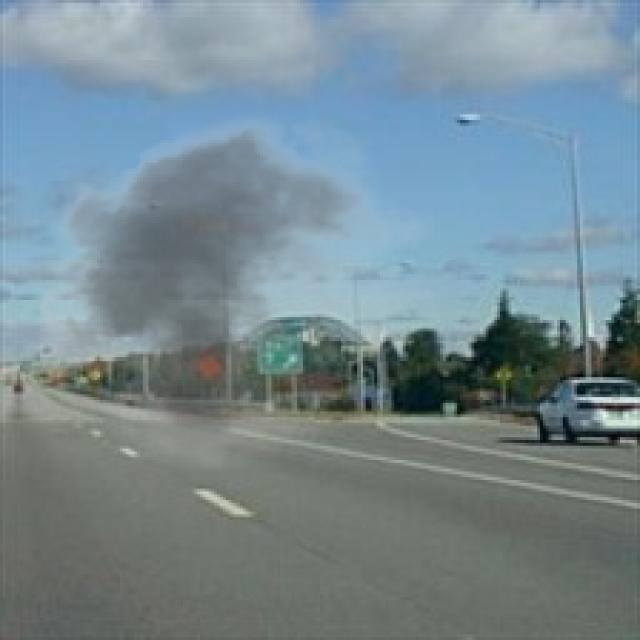Smoke: (14, 100, 437, 472)
